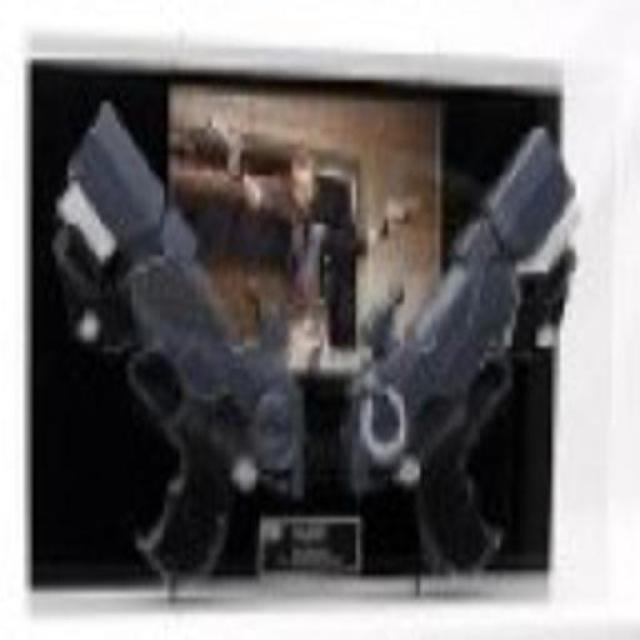pistol: (55, 101, 304, 575), (371, 111, 571, 581)
